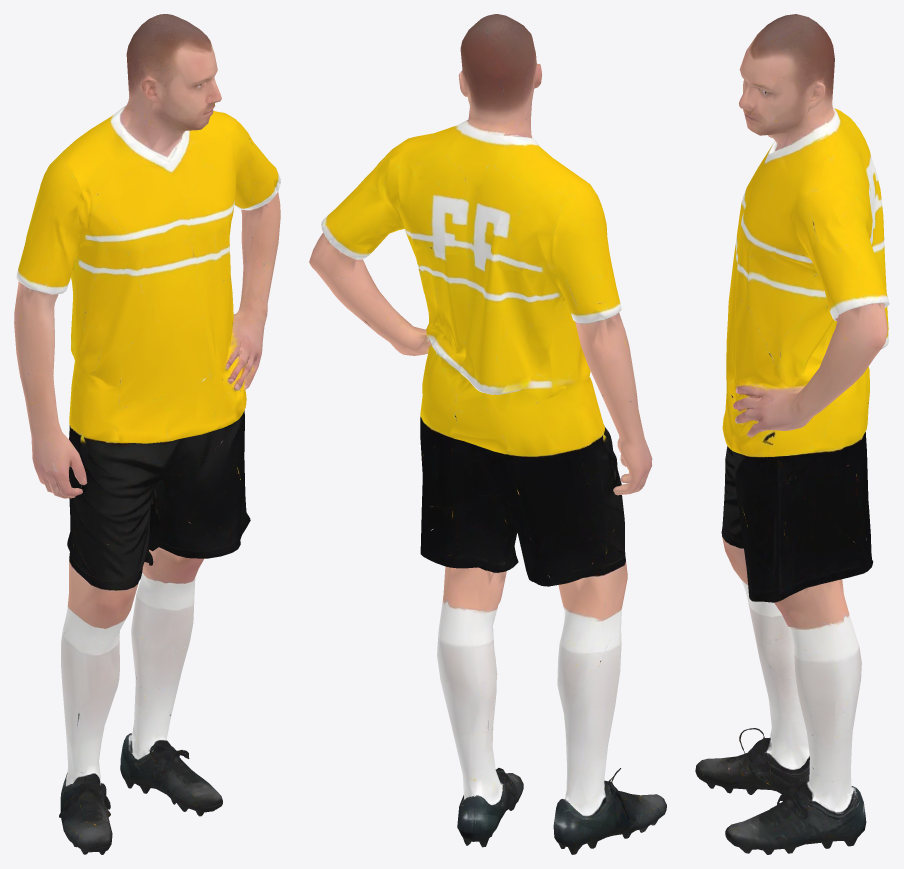
Rendered from player.glb.
3 renders of one model, left to right at view 1: azimuth 30°, elevation 25°; view 2: azimuth 150°, elevation 25°; view 3: azimuth 270°, elevation 25°, orthographic. The views are drawn at different scales.
Visible parts, largest first — view 1: mesh_0; view 2: mesh_0; view 3: mesh_0.
Boxes of the visible parts, x1,y1,x2,y2 form: mesh_0: [14, 14, 280, 854]; mesh_0: [309, 14, 666, 854]; mesh_0: [695, 14, 889, 854].
Size of the model in its own units: 0.7168 by 1.9 by 0.4045.
1 material, 1 textured.
